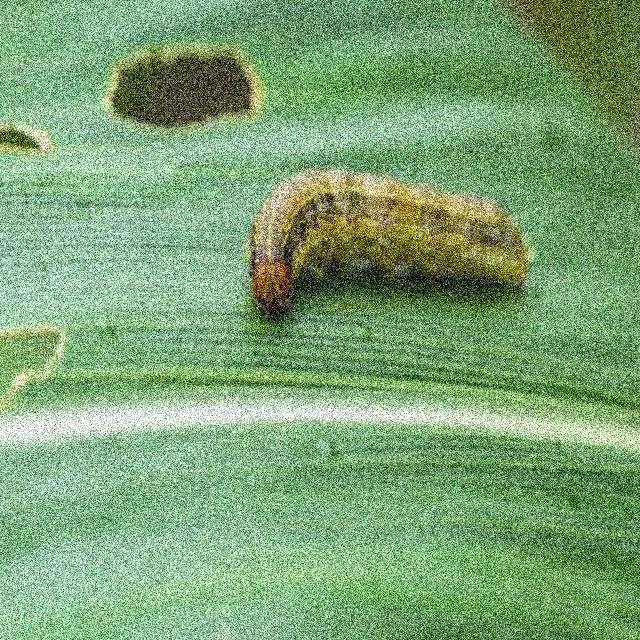worm: (247, 166, 530, 322)
